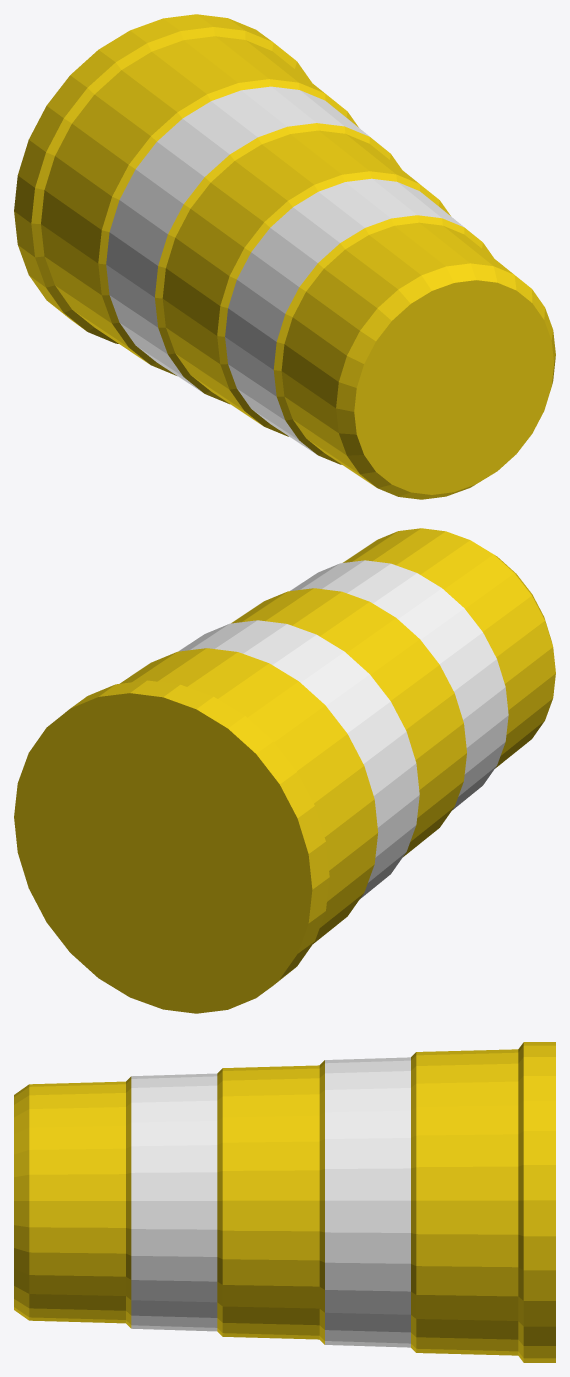
File: barrel.obj
3 renders of one model, top to bottom at view 1: azimuth 30°, elevation 25°; view 2: azimuth 150°, elevation 25°; view 3: azimuth 270°, elevation 25°, orthographic. The views are drawn at different scales.
Parts seen in each view (by area): view 1: barrel_yellow; view 2: barrel_yellow; view 3: barrel_yellow.
Part boxes in pixels (box(x1,y1,x2,y2)): barrel_yellow: box(14, 14, 555, 499); barrel_yellow: box(14, 528, 555, 1013); barrel_yellow: box(14, 1042, 555, 1362).
Size of the model in its own units: 0.5969 by 0.5969 by 1.01.
